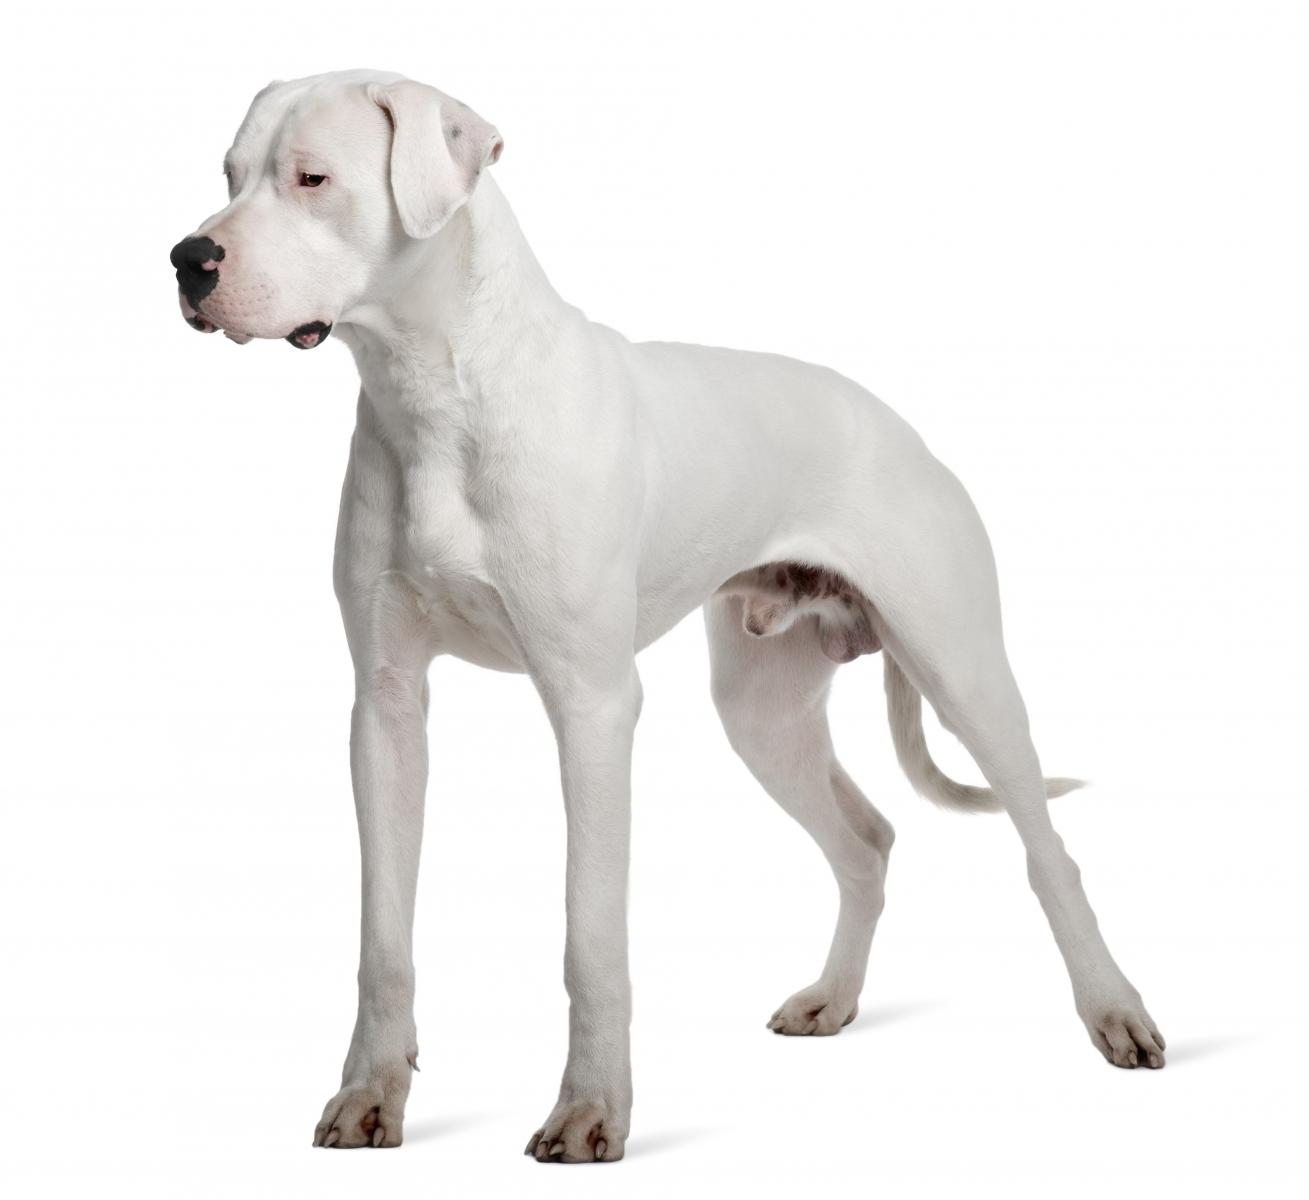dog: (143, 52, 1209, 1168)
